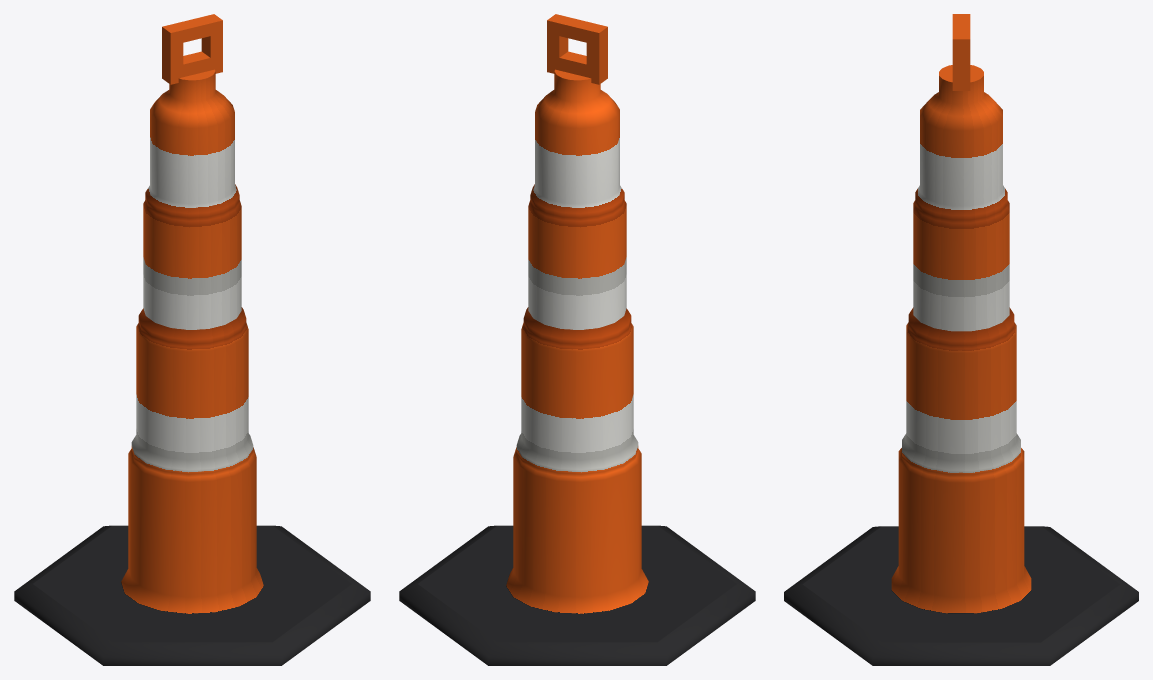
The model's file is workzone_channelizer.obj.
3 views of the same model, side by side, from view 1: azimuth 30°, elevation 25°; view 2: azimuth 150°, elevation 25°; view 3: azimuth 270°, elevation 25° (orthographic).
Parts seen in each view (by area): view 1: workzone_channelizer; view 2: workzone_channelizer; view 3: workzone_channelizer.
Boxes of the visible parts, box(x1,y1,x2,y2) form: workzone_channelizer: box(14, 14, 370, 665); workzone_channelizer: box(399, 14, 755, 665); workzone_channelizer: box(784, 14, 1138, 665).
Bounding box in the file's own units: 0.5737 × 1.18 × 0.6625.
